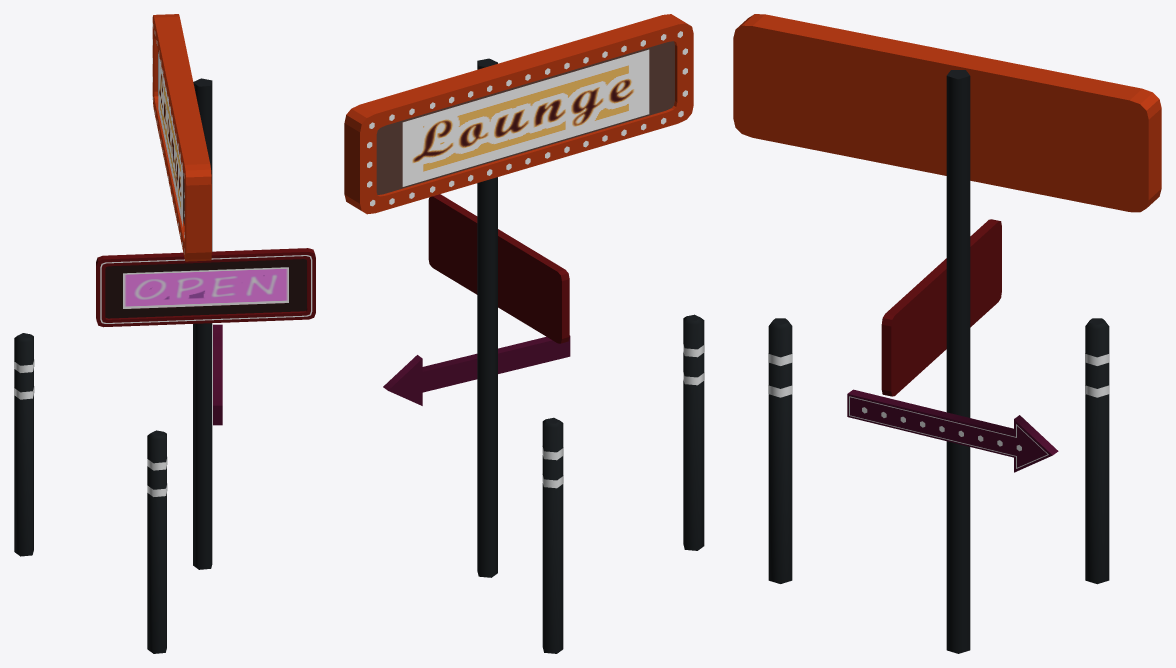
The model's file is M_Tlupaii01.FBX.
3 views of the same model, side by side, from view 1: azimuth 30°, elevation 25°; view 2: azimuth 150°, elevation 25°; view 3: azimuth 270°, elevation 25° (orthographic). The views are drawn at different scales.
Parts seen in each view (by area): view 1: M_Tlupaii01_01, M_Tlupaii01_02, M_Tlupaii01_05, M_Tlupaii01_04, M_Tlupaii01_06, M_Tlupaii01_08; view 2: M_Tlupaii01_01, M_Tlupaii01_02, M_Tlupaii01_04, M_Tlupaii01_03, M_Tlupaii01_08; view 3: M_Tlupaii01_01, M_Tlupaii01_02, M_Tlupaii01_08, M_Tlupaii01_07.
Boxes of the visible parts, <box> form: M_Tlupaii01_01: <box>96,14,315,425</box>; M_Tlupaii01_02: <box>14,78,212,653</box>; M_Tlupaii01_05: <box>123,267,288,308</box>; M_Tlupaii01_04: <box>158,52,182,226</box>; M_Tlupaii01_06: <box>100,255,312,323</box>; M_Tlupaii01_08: <box>14,359,167,496</box>; M_Tlupaii01_01: <box>344,14,693,405</box>; M_Tlupaii01_02: <box>477,58,704,653</box>; M_Tlupaii01_04: <box>402,49,649,186</box>; M_Tlupaii01_03: <box>367,31,687,206</box>; M_Tlupaii01_08: <box>542,344,704,488</box>; M_Tlupaii01_01: <box>733,14,1161,472</box>; M_Tlupaii01_02: <box>768,70,1109,653</box>; M_Tlupaii01_08: <box>768,353,1109,397</box>; M_Tlupaii01_07: <box>849,396,1048,468</box>.
Size of the model in its own units: 1.89 by 4.13 by 2.79.
